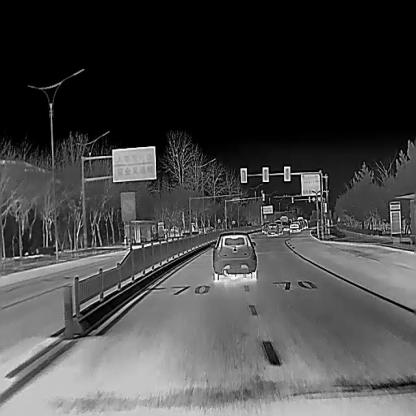car: (210, 231, 258, 280), (267, 221, 278, 236), (273, 218, 282, 234), (290, 221, 300, 232), (260, 220, 268, 233), (282, 221, 289, 231)
truck: (280, 214, 288, 222)
